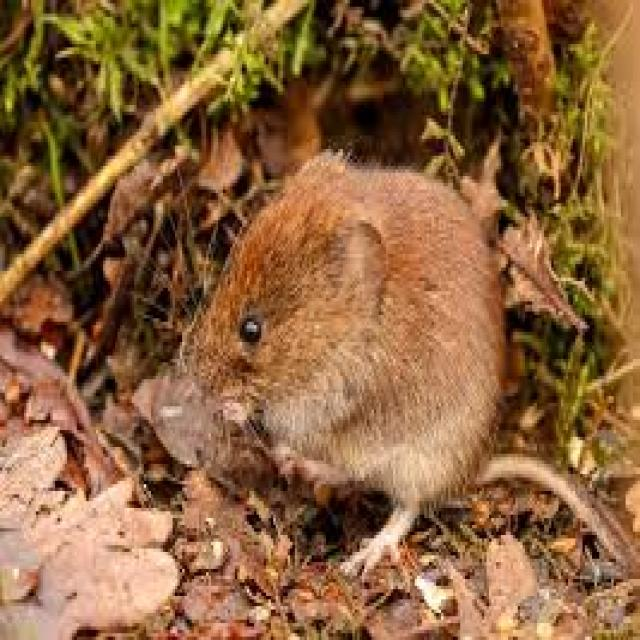rat: (170, 135, 508, 579)
